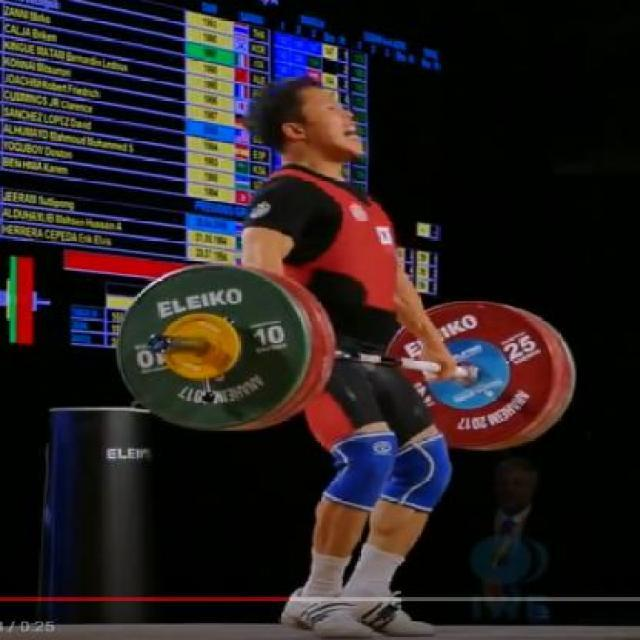barbell: (111, 253, 343, 444)
